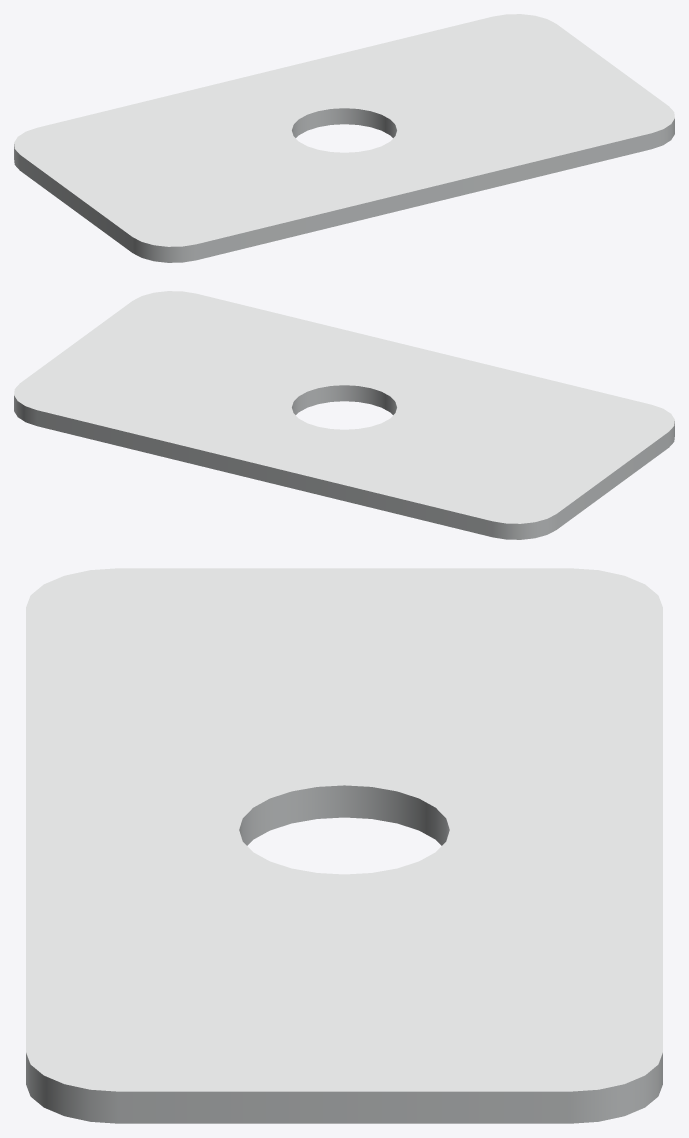
File: Platform.Rounded.003.fbx
The picture shows the model from 3 angles, top to bottom: view 1: azimuth 30°, elevation 25°; view 2: azimuth 150°, elevation 25°; view 3: azimuth 270°, elevation 25°; orthographic projection. The views are drawn at different scales.
Visible parts, largest first — view 1: Platform.Rounded.003; view 2: Platform.Rounded.003; view 3: Platform.Rounded.003.
Boxes of the visible parts, x1,y1,x2,y2 form: Platform.Rounded.003: [14, 14, 674, 262]; Platform.Rounded.003: [14, 291, 674, 539]; Platform.Rounded.003: [26, 568, 662, 1123].
Bounding box in the file's own units: 35 × 1 × 18.
